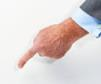up: (16, 20, 72, 71)
